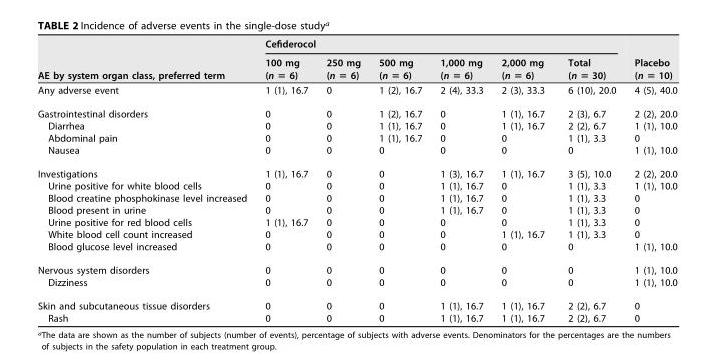table: (36, 37, 676, 323)
table column: (36, 37, 255, 323), (555, 37, 624, 323), (491, 37, 555, 323), (255, 37, 316, 323), (369, 37, 430, 323), (430, 37, 491, 323), (316, 37, 369, 323), (624, 37, 676, 323)
table column header: (36, 37, 676, 82)
table row: (36, 52, 676, 82), (36, 82, 676, 101), (36, 101, 676, 119), (36, 143, 676, 161), (36, 161, 676, 179), (36, 239, 676, 257), (36, 257, 676, 275), (36, 275, 676, 293), (36, 293, 676, 311), (36, 37, 676, 52), (36, 119, 676, 131), (36, 131, 676, 143), (36, 179, 676, 191), (36, 191, 676, 203), (36, 203, 676, 215), (36, 215, 676, 227), (36, 227, 676, 239), (36, 311, 676, 323)
table spanning cell: (36, 37, 255, 82), (255, 37, 624, 52), (624, 37, 676, 82)
